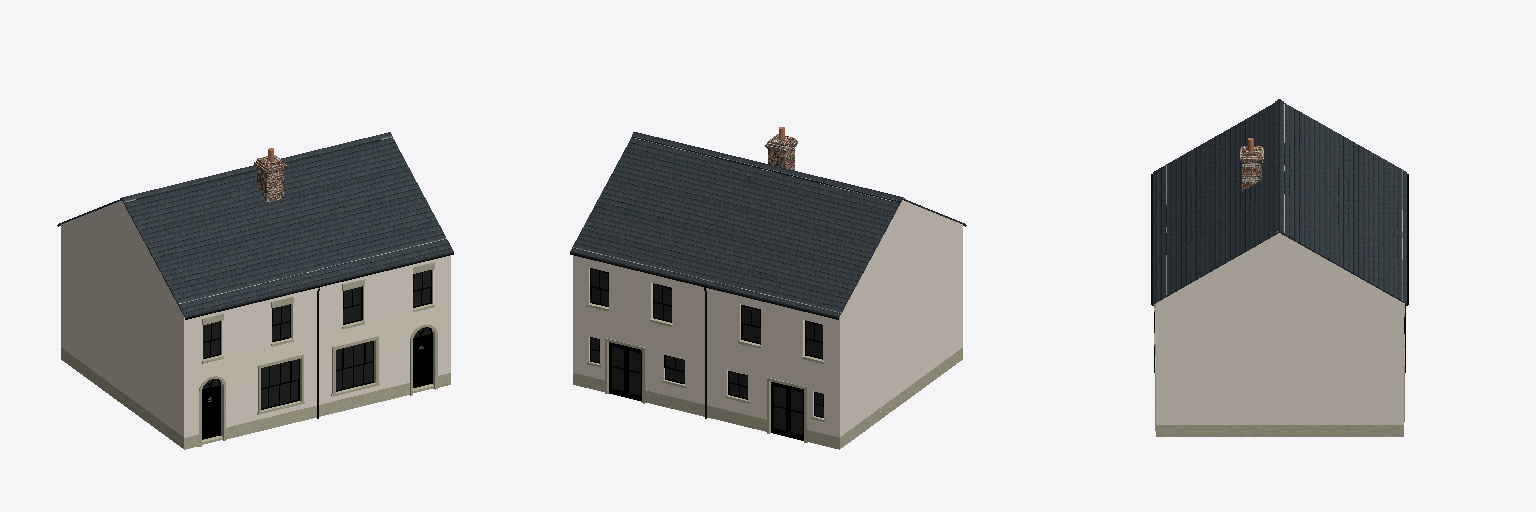
3 views of the same model, side by side, from view 1: azimuth 30°, elevation 25°; view 2: azimuth 150°, elevation 25°; view 3: azimuth 270°, elevation 25° (orthographic).
Parts seen in each view (by area): view 1: polySurface76_houseF; view 2: polySurface76_houseF; view 3: polySurface76_houseF.
Part boxes in pixels (left/top/right/bottom): polySurface76_houseF: left=57, top=132, right=453, bottom=449; polySurface76_houseF: left=570, top=127, right=966, bottom=449; polySurface76_houseF: left=1151, top=99, right=1408, bottom=436.
Size of the model in its own units: 105 by 87.14 by 86.84.
Materials: 16 (5 with a texture image).